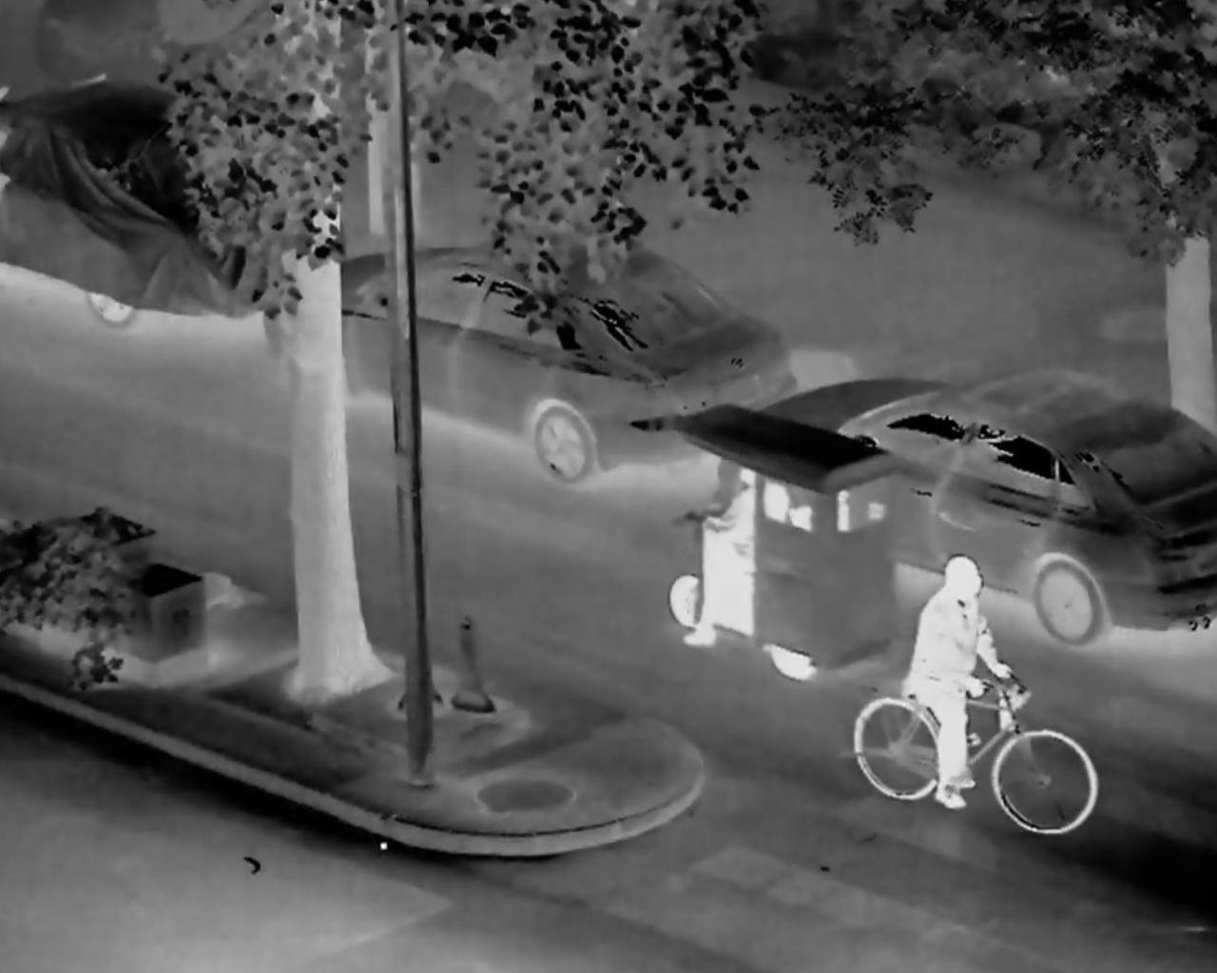person: (901, 544, 1010, 825), (685, 434, 802, 659)
